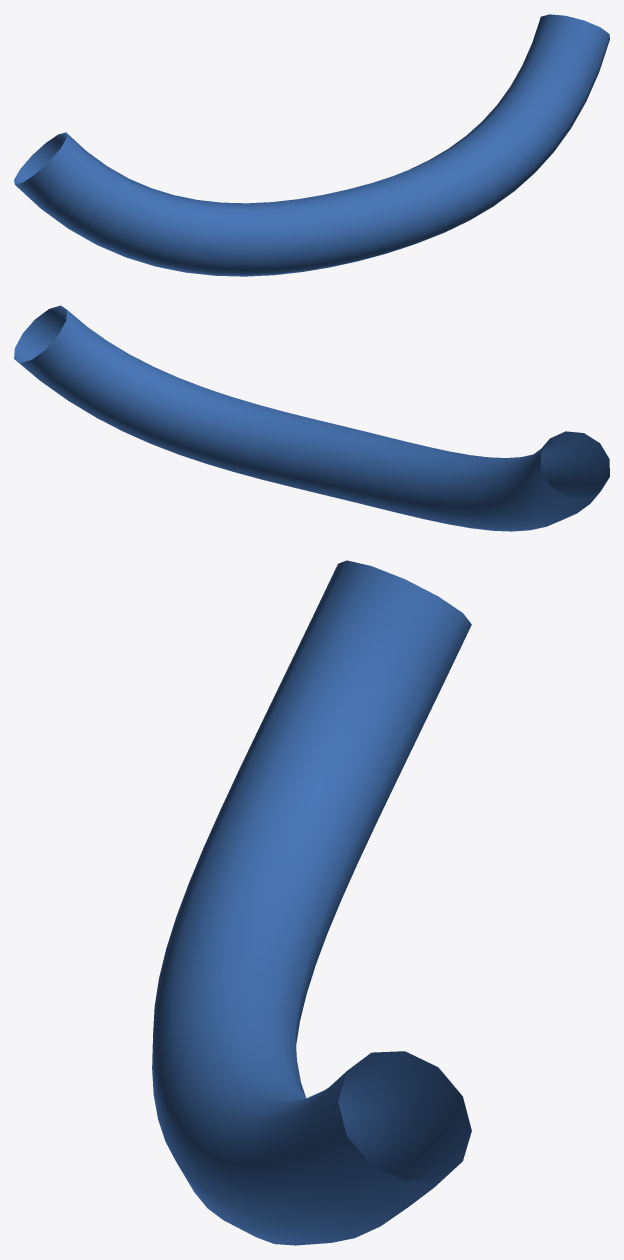
3 renders of one model, top to bottom at view 1: azimuth 30°, elevation 25°; view 2: azimuth 150°, elevation 25°; view 3: azimuth 270°, elevation 25°, orthographic. The views are drawn at different scales.
Parts seen in each view (by area): view 1: 前海绵间窦; view 2: 前海绵间窦; view 3: 前海绵间窦.
Boxes of the visible parts, x1=… form: 前海绵间窦: x1=14, y1=14, x2=609, y2=276; 前海绵间窦: x1=14, y1=305, x2=609, y2=531; 前海绵间窦: x1=152, y1=560, x2=471, y2=1245.
Size of the model in its own units: 0.0135 by 0.0034 by 0.00319.
